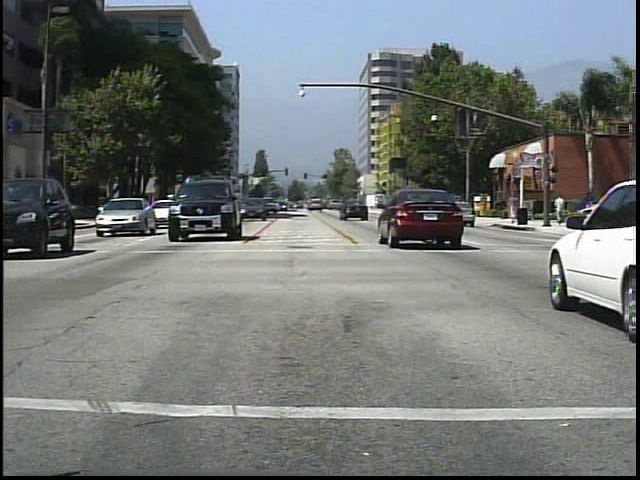person: (554, 191, 570, 220), (507, 191, 520, 226)
